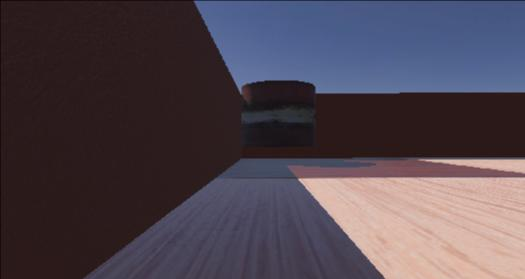OilBarrel: (232, 72, 327, 178)
